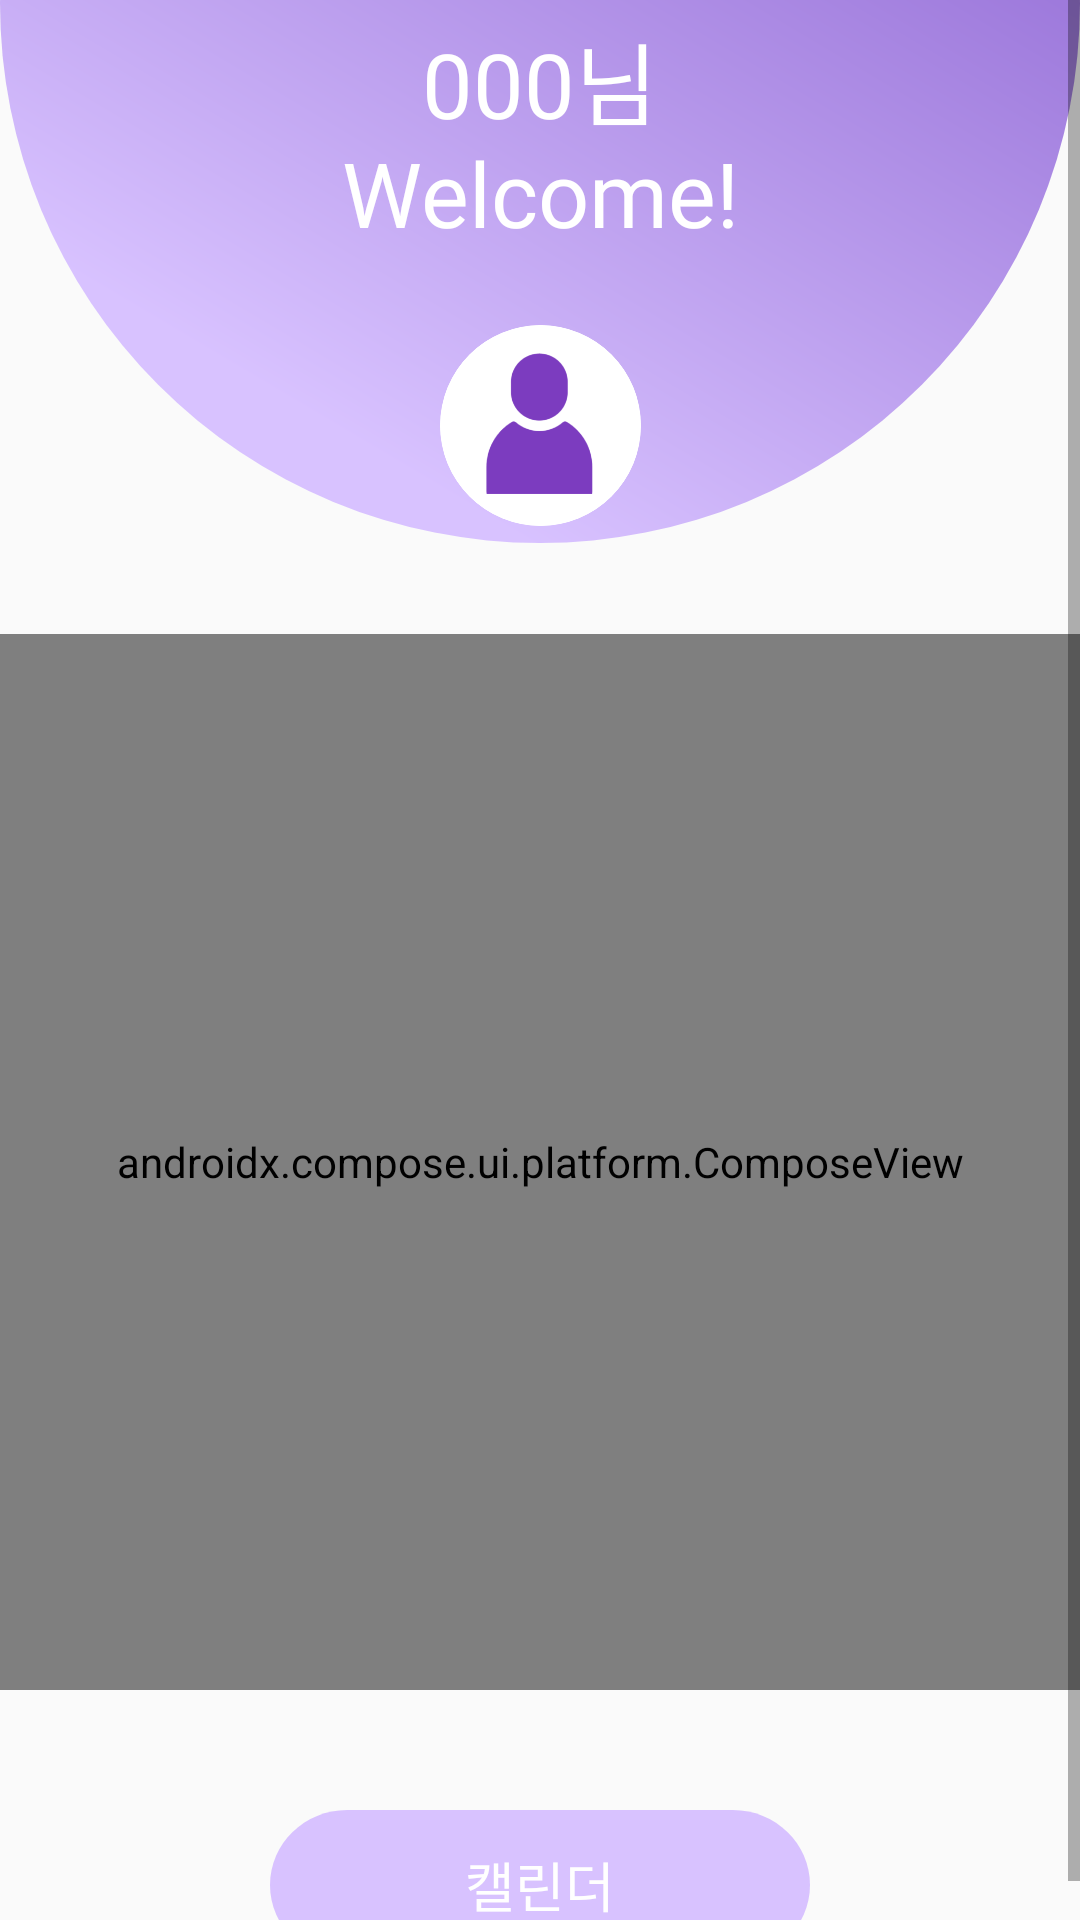

Screen size 1080×1920. Icon name, then its center in pixels as [x,y]:
profile: [540,425]
